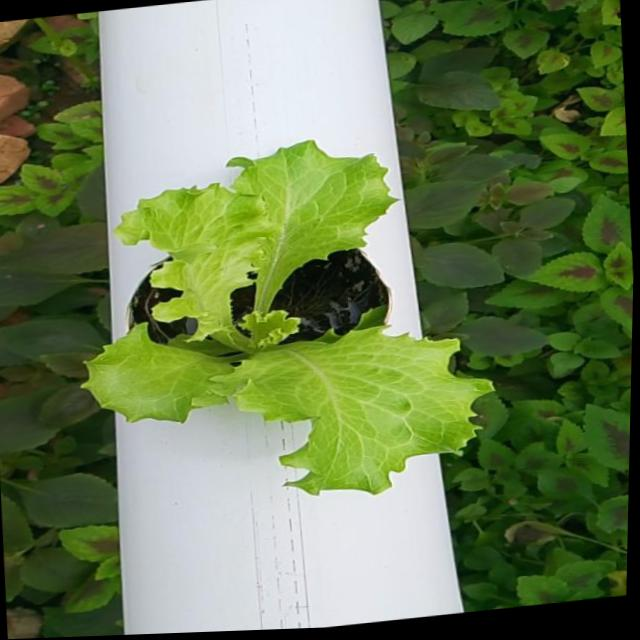Baby: (80, 140, 491, 494)
